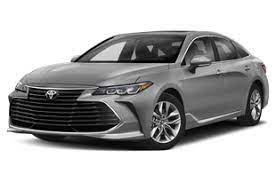Toyota: (7, 29, 270, 143)
